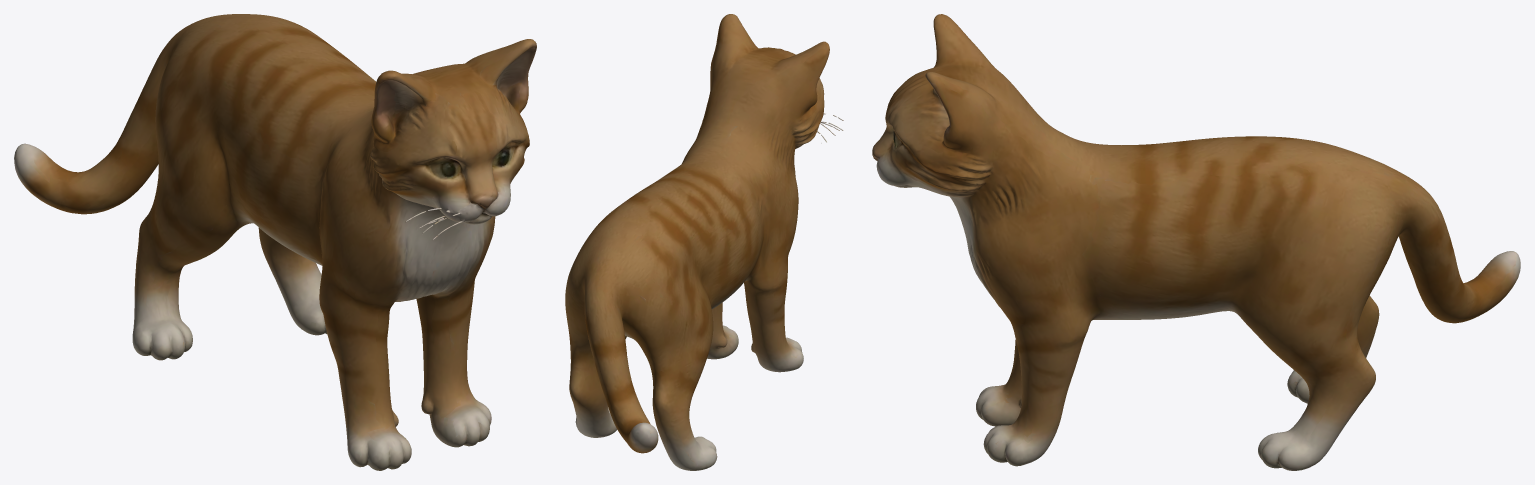
File: trellis2_cat_nonmetal.glb
The picture shows the model from 3 angles, left to right: view 1: azimuth 30°, elevation 25°; view 2: azimuth 150°, elevation 25°; view 3: azimuth 270°, elevation 25°; orthographic projection. The views are drawn at different scales.
Parts seen in each view (by area): view 1: world; view 2: world; view 3: world.
Part boxes in pixels (bbox=[...]): world: bbox=[14, 14, 536, 470]; world: bbox=[565, 14, 843, 470]; world: bbox=[872, 14, 1520, 470].
Size of the model in its own units: 0.3646 by 0.6745 by 1.
Materials: 1 (1 with a texture image).
